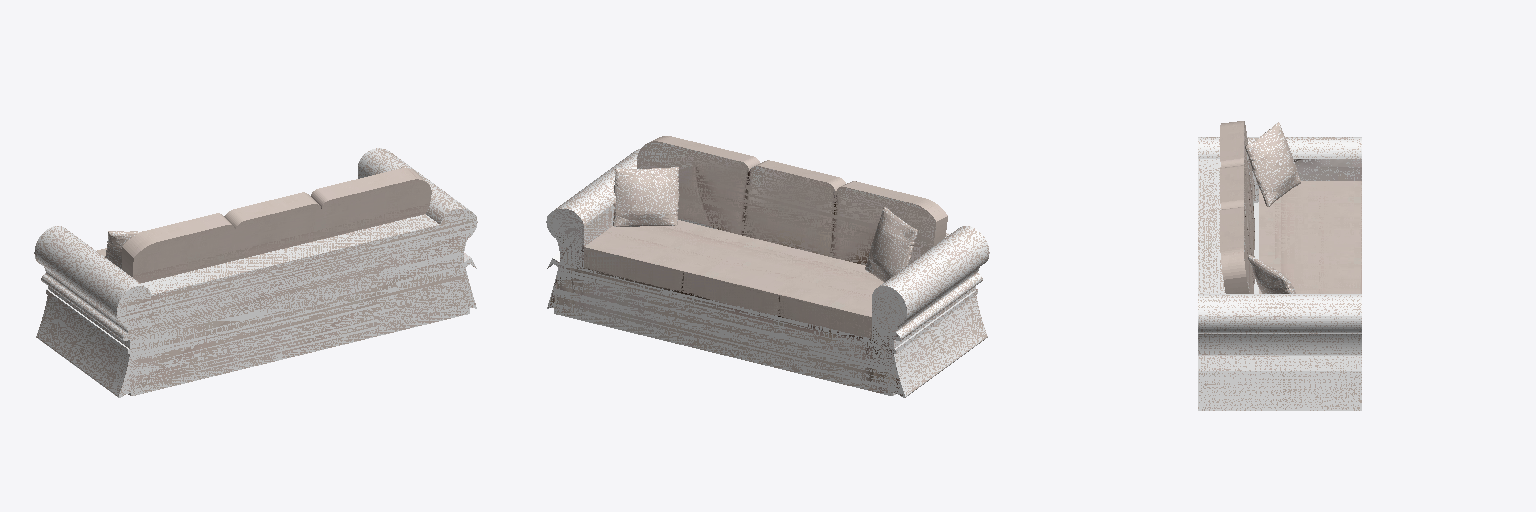
3 views of the same model, side by side, from view 1: azimuth 30°, elevation 25°; view 2: azimuth 150°, elevation 25°; view 3: azimuth 270°, elevation 25° (orthographic).
Visible parts, largest first — view 1: mesh6_mesh6-geometry, mesh4_mesh4-geometry, mesh1_mesh1-geometry; view 2: mesh6_mesh6-geometry, mesh4_mesh4-geometry, mesh3_mesh3-geometry, mesh2_mesh2-geometry, mesh1_mesh1-geometry; view 3: mesh6_mesh6-geometry, mesh3_mesh3-geometry, mesh4_mesh4-geometry, mesh1_mesh1-geometry, mesh2_mesh2-geometry.
Boxes of the visible parts, x1,y1,x2,y2 form: mesh6_mesh6-geometry: [34, 148, 477, 397]; mesh4_mesh4-geometry: [122, 168, 431, 282]; mesh1_mesh1-geometry: [105, 231, 142, 268]; mesh6_mesh6-geometry: [546, 149, 989, 397]; mesh4_mesh4-geometry: [637, 136, 947, 265]; mesh3_mesh3-geometry: [584, 220, 883, 338]; mesh2_mesh2-geometry: [613, 167, 679, 226]; mesh1_mesh1-geometry: [865, 207, 917, 282]; mesh6_mesh6-geometry: [1198, 137, 1361, 410]; mesh3_mesh3-geometry: [1259, 181, 1361, 293]; mesh4_mesh4-geometry: [1220, 121, 1254, 293]; mesh1_mesh1-geometry: [1245, 122, 1300, 206]; mesh2_mesh2-geometry: [1248, 255, 1295, 293].
Size of the model in its own units: 0.8794 by 0.326 by 0.3469.
Materials: 87 (75 with a texture image).